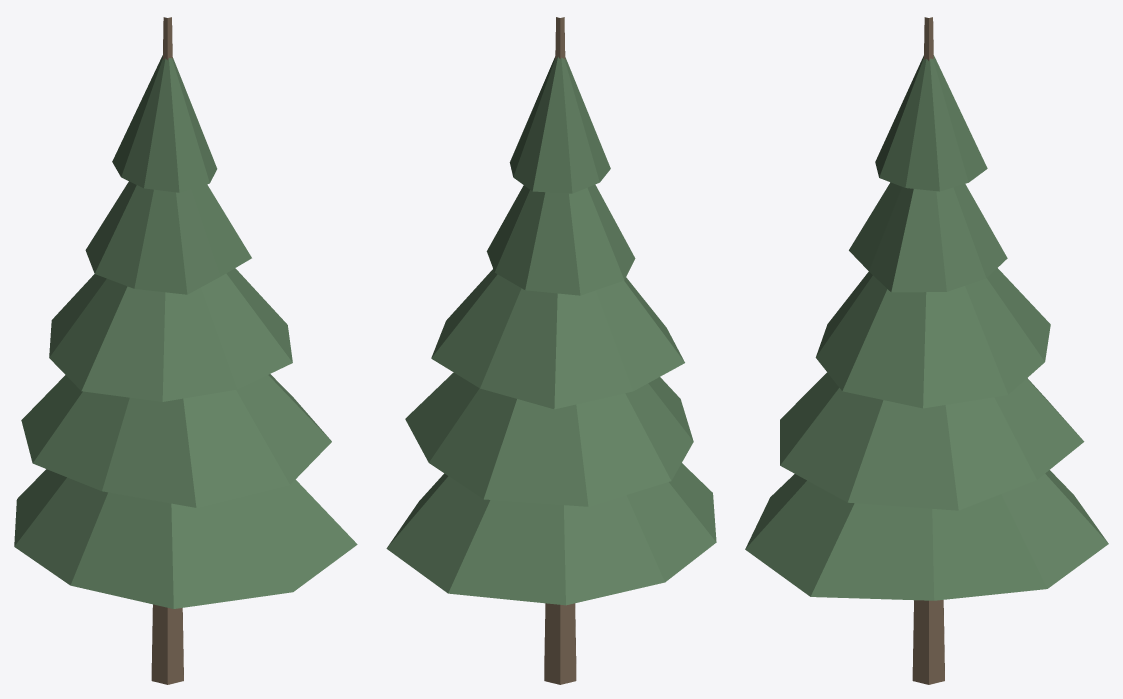
The model's file is TreePine_A.gltf.
3 renders of one model, left to right at view 1: azimuth 30°, elevation 25°; view 2: azimuth 150°, elevation 25°; view 3: azimuth 270°, elevation 25°, orthographic.
Parts seen in each view (by area): view 1: TreePine_A; view 2: TreePine_A; view 3: TreePine_A.
Part boxes in pixels (bbox=[...]): TreePine_A: bbox=[14, 17, 357, 684]; TreePine_A: bbox=[386, 17, 716, 684]; TreePine_A: bbox=[745, 17, 1108, 684].
Size of the model in its own units: 4.51 by 10.56 by 5.27.
